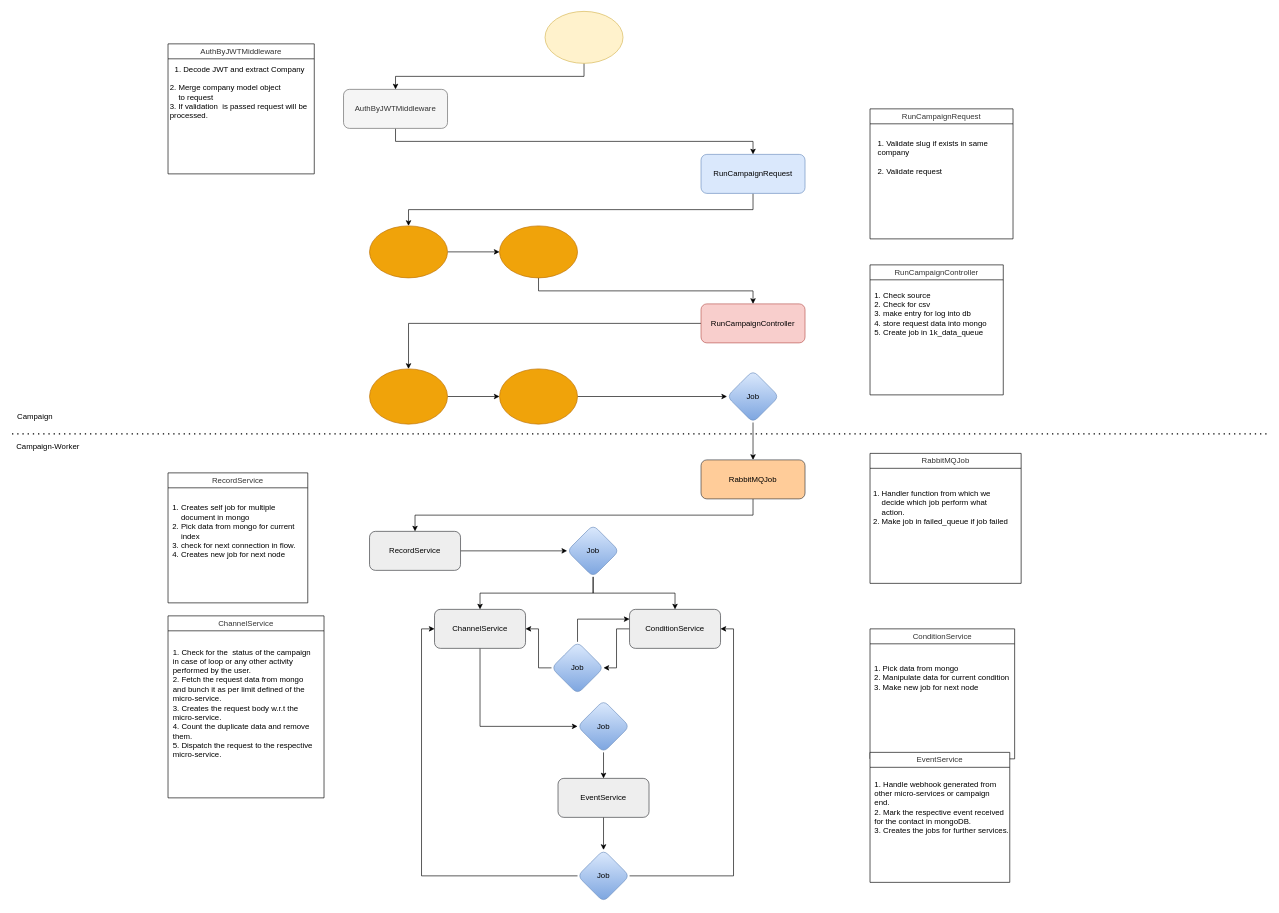
This 1279x913 diagram has some shape labels left out. Each missing label, with the box of its shape:
authorize(): (369, 225, 448, 278)
commonRun(): (499, 368, 578, 424)
rules(): (499, 225, 578, 278)
Run API: (544, 11, 623, 63)
run(): (369, 368, 448, 424)
